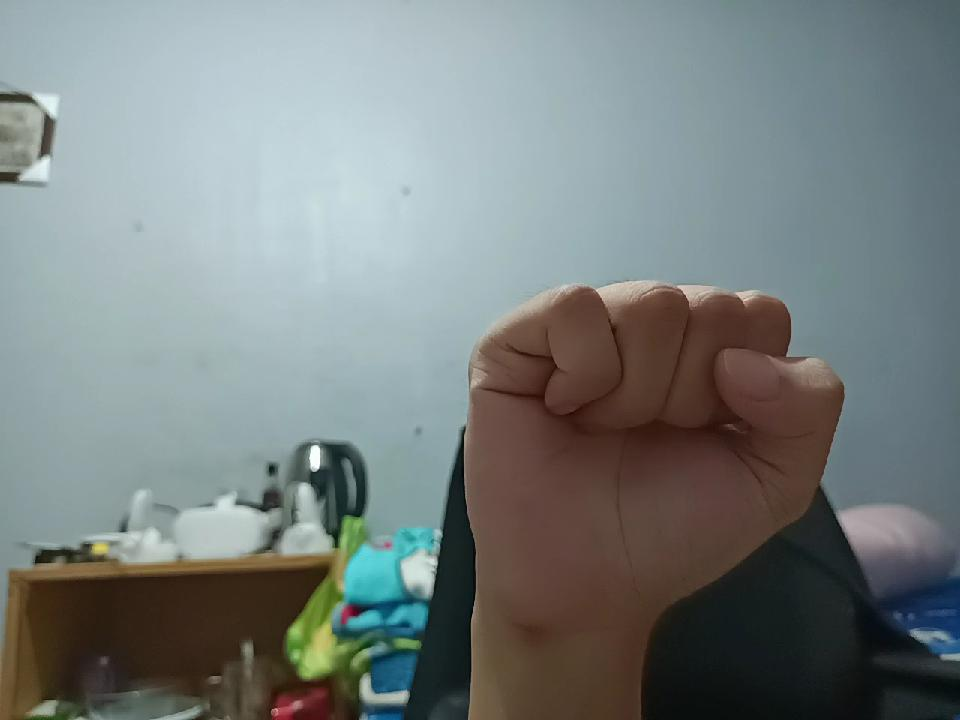rock: (469, 255, 815, 656)
